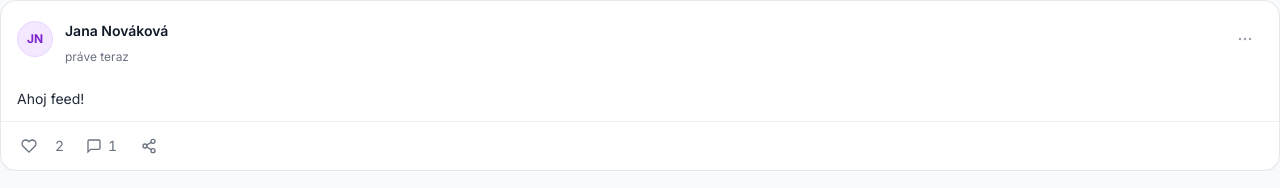
Scenario: FeedPostCard – lajk › updates optimistically before the request resolves
Click the button with test id "feed-like-button" at [29, 146], box x1=13 y1=128 x2=45 y2=164
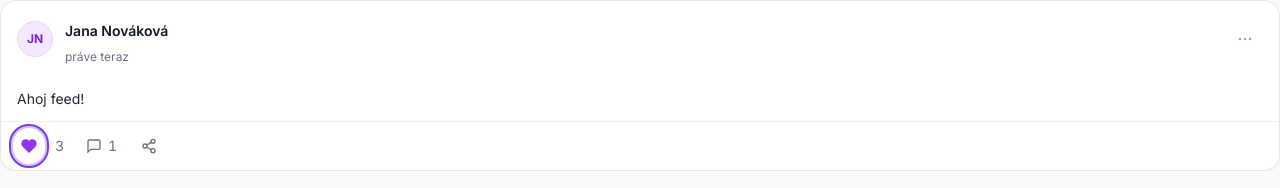
Expected: the button with test id "feed-like-count" reads "3", x1=49 y1=128 x2=70 y2=164
